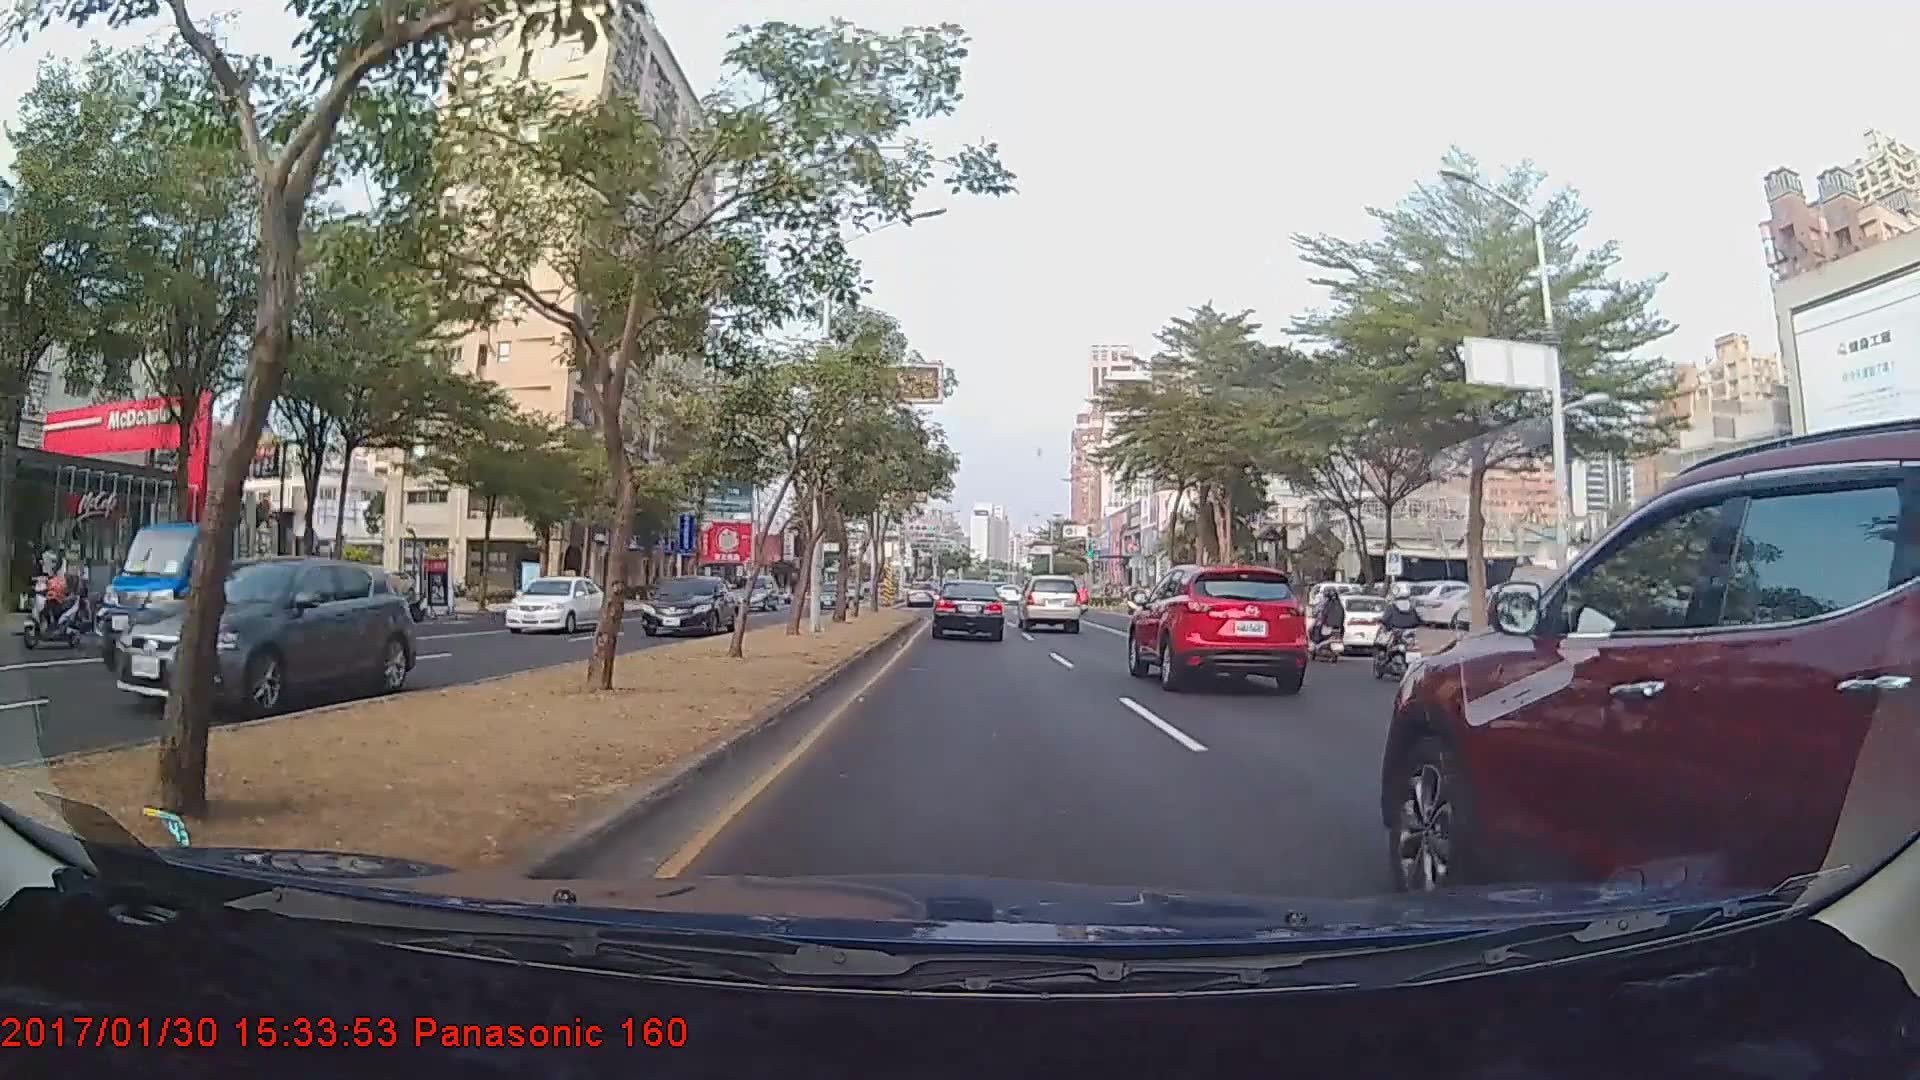rider: (20, 553, 91, 651), (1364, 578, 1429, 676), (1300, 580, 1353, 666)
vehicle: (1380, 423, 1920, 965), (117, 555, 418, 721), (113, 531, 301, 672), (1127, 558, 1309, 691), (1299, 593, 1406, 654), (638, 577, 739, 638), (502, 574, 607, 632), (931, 579, 1005, 641), (1017, 574, 1082, 633), (905, 577, 938, 608)
